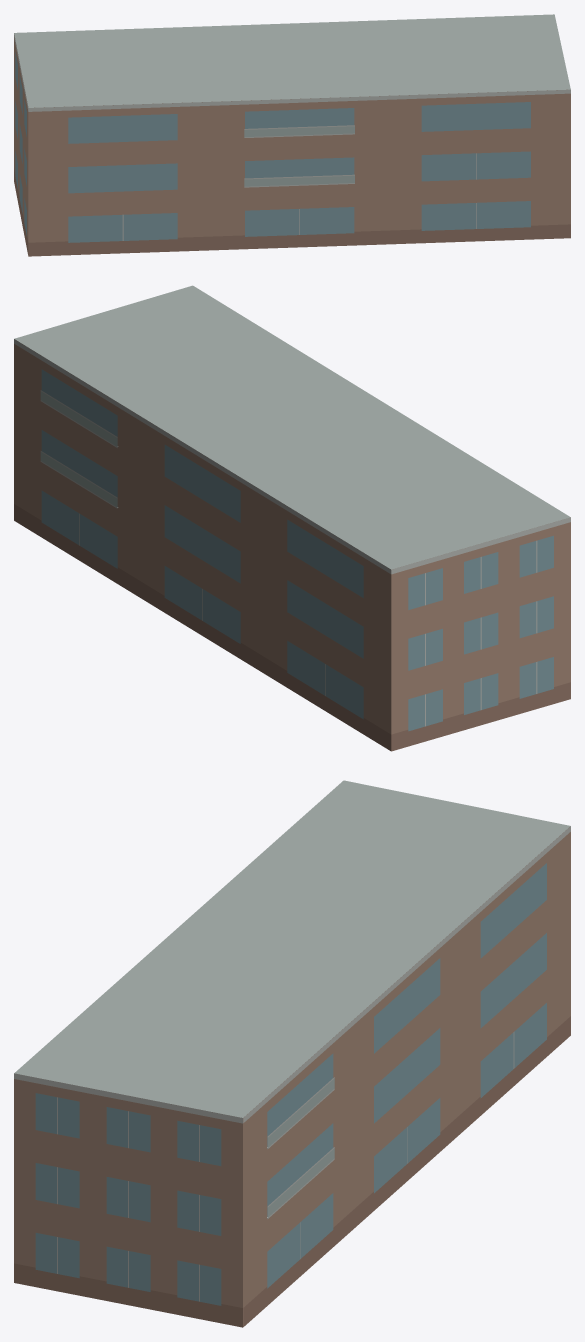
Rendered from survey-upis-32555985.glb.
The picture shows the model from 3 angles, top to bottom: view 1: azimuth 30°, elevation 25°; view 2: azimuth 150°, elevation 25°; view 3: azimuth 270°, elevation 25°; orthographic projection. The views are drawn at different scales.
Parts seen in each view (by area): view 1: survey-upis-32555985.tmp; view 2: survey-upis-32555985.tmp; view 3: survey-upis-32555985.tmp.
Boxes of the visible parts, bbox=[...] form: survey-upis-32555985.tmp: bbox=[14, 14, 570, 256]; survey-upis-32555985.tmp: bbox=[14, 285, 570, 751]; survey-upis-32555985.tmp: bbox=[14, 780, 570, 1327].
Bounding box in the file's own units: 31.63 × 9.15 × 22.04.
